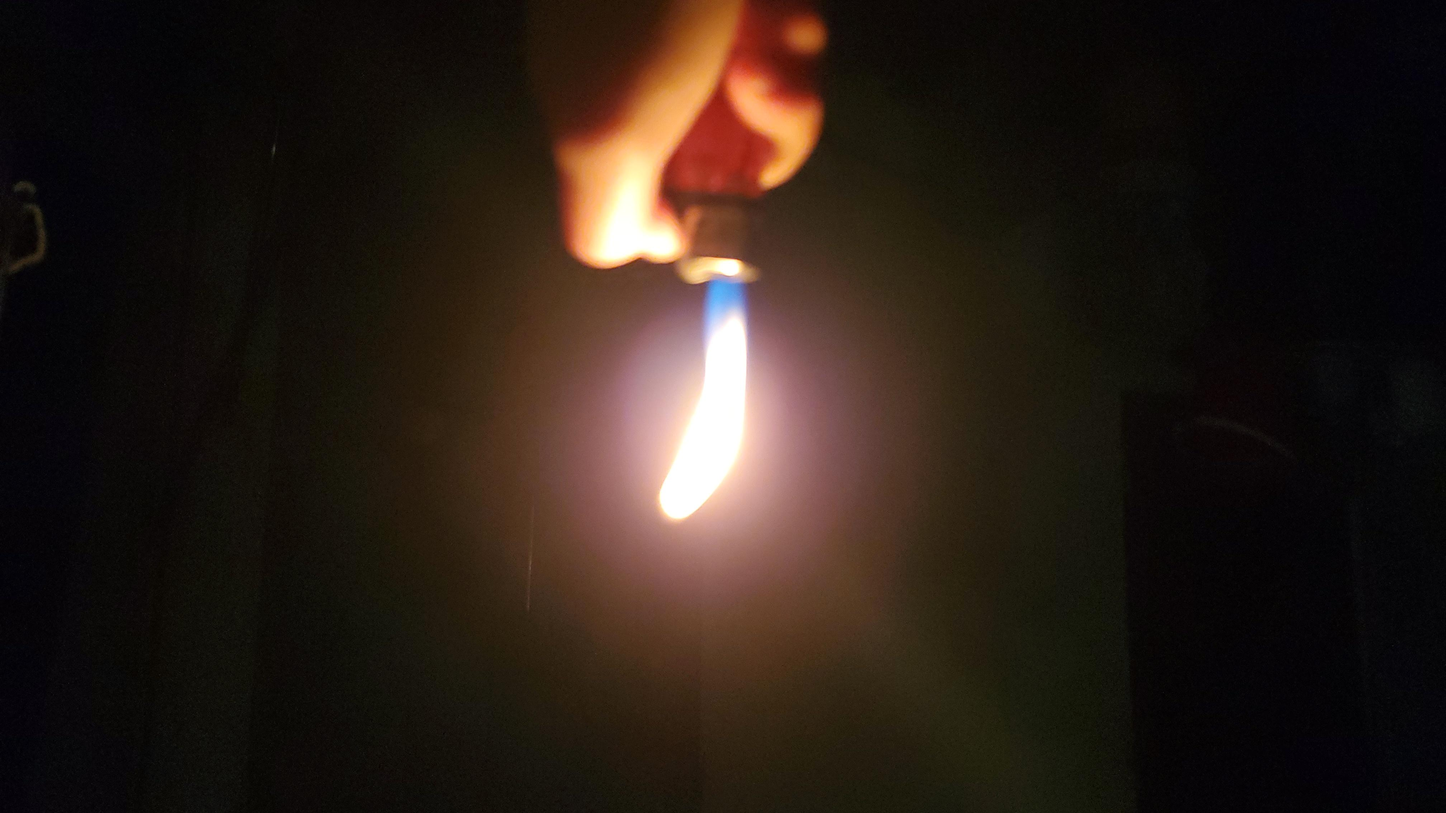fire: (669, 293, 818, 580)
